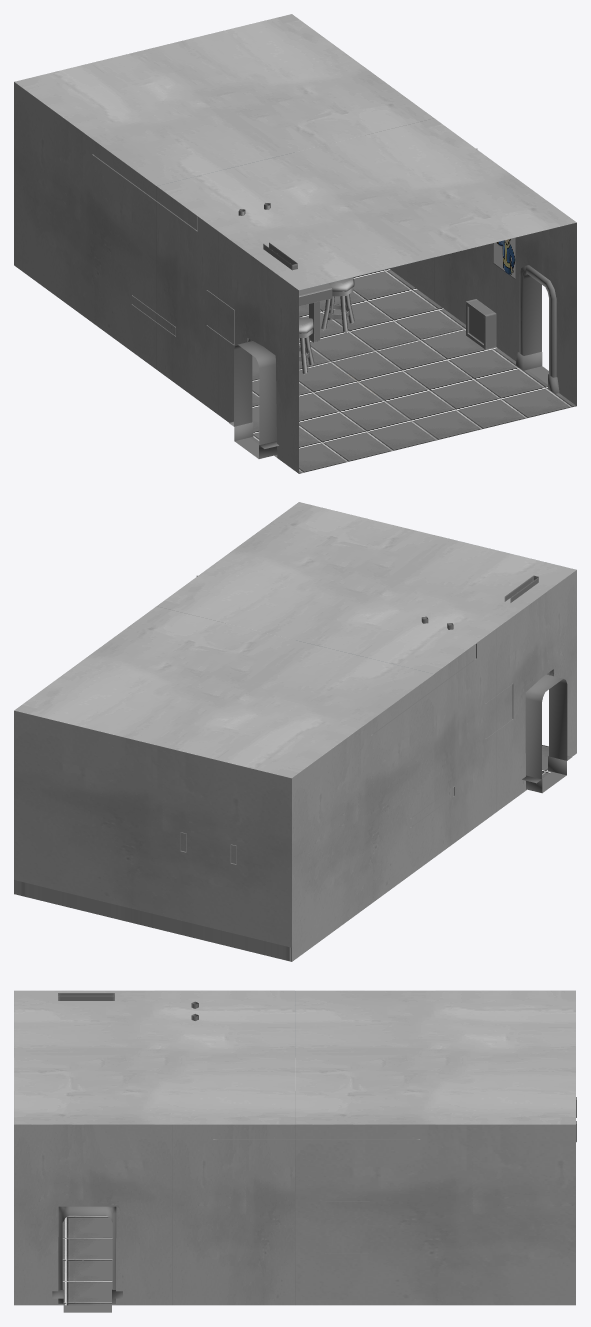
Rendered from MSH_Bar_room_L1_R1_optimized.fbx.
3 renders of one model, top to bottom at view 1: azimuth 30°, elevation 25°; view 2: azimuth 150°, elevation 25°; view 3: azimuth 270°, elevation 25°, orthographic.
Parts seen in each view (by area): view 1: lightmap2, lightmap-1, lightmap1; view 2: lightmap2, lightmap-1, lightmap1; view 3: lightmap2, lightmap-1, lightmap1.
Boxes of the visible parts, left/top/right/bottom form: lightmap2: left=14, top=14, right=576, bottom=473; lightmap-1: left=234, top=274, right=548, bottom=458; lightmap1: left=92, top=148, right=515, bottom=374; lightmap2: left=14, top=502, right=576, bottom=961; lightmap-1: left=525, top=674, right=567, bottom=793; lightmap1: left=180, top=575, right=513, bottom=864; lightmap2: left=14, top=990, right=575, bottom=1305; lightmap-1: left=62, top=1206, right=112, bottom=1312; lightmap1: left=191, top=1001, right=576, bottom=1253.
Size of the model in its own units: 10.3 by 6.04 by 16.54.
Materials: 4 (3 with a texture image).
